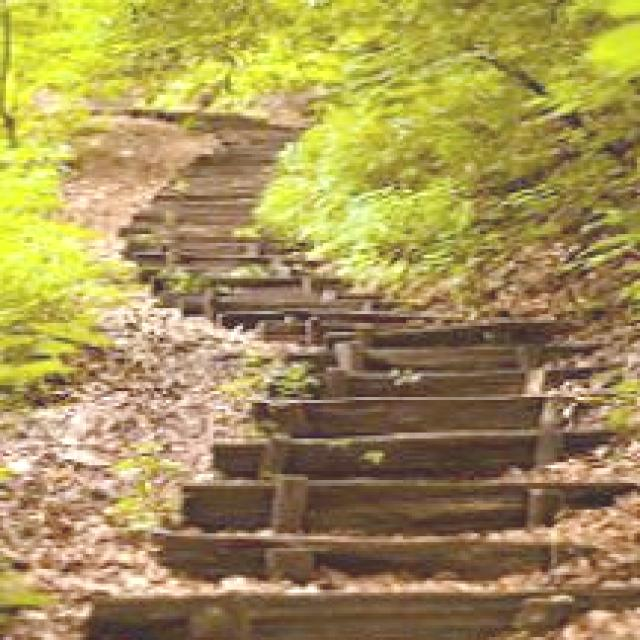upstair: (224, 312, 615, 632)
